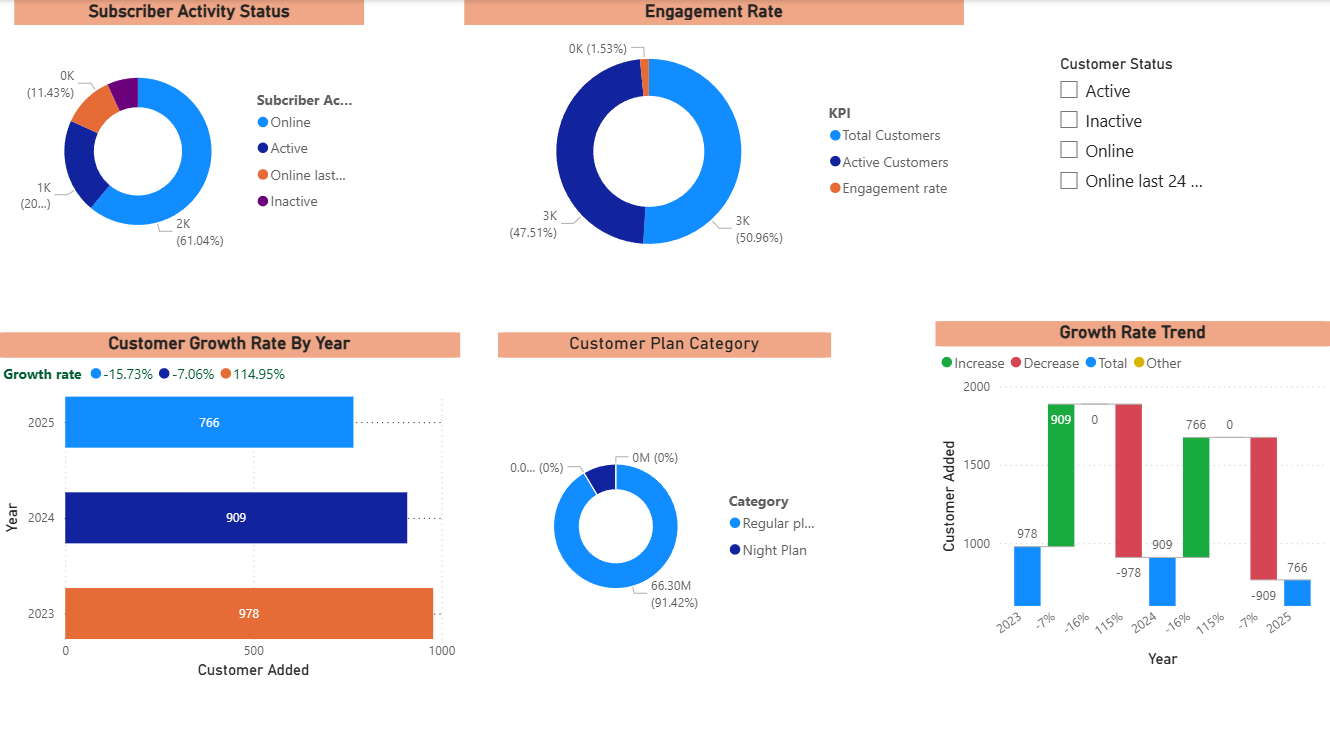

The dashboard page shown, as its layout file describes it:
{"tool":"powerbi","page":{"name":"Customer Analysis","canvas":[1280,720],"ordinal":1},"visuals":[{"type":"donutChart","title":"Subscriber Activity Status","fields":{"Category":["CUSTOMER STATUS ANLYSIS.Subcriber Activity Status"],"Y":["Sum(CUSTOMER STATUS ANLYSIS.No. of customers)"]},"box":[16,0,336,272],"z":0},{"type":"barChart","title":"Customer Growth Rate By Year","fields":{"Category":["Annual Growth Rate.Year"],"Y":["Sum(Annual Growth Rate.Customer Added )"],"Series":["Annual Growth Rate.Growth rate"]},"box":[0,319.8,444.2,337.2],"z":1000},{"type":"donutChart","title":"Engagement Rate","fields":{"Category":["Engagement rate.KPI"],"Series":["Engagement rate.VALUE"],"Y":["Sum(Engagement rate.VALUE)"]},"box":[448,0,480,272],"z":2000},{"type":"donutChart","title":"Customer Plan Category","fields":{"Category":["SUBCRIPTION CATE.Category "],"Y":["Sum(SUBCRIPTION CATE.Total number  of client)","Sum(SUBCRIPTION CATE.Revenue generated )","Sum(SUBCRIPTION CATE.% Contibution )"]},"box":[480.1,319.8,319.8,353.5],"z":3000},{"type":"waterfallChart","title":"Growth Rate Trend","fields":{"Category":["Annual Growth Rate.Year"],"Y":["Sum(Annual Growth Rate.Customer Added )"],"Breakdown":["Annual Growth Rate.Growth rate"]},"box":[900.9,308.1,379.1,337.2],"z":4000},{"type":"slicer","fields":{"Values":["CUSTOMER STATUS ANLYSIS.Subcriber Activity Status"]},"box":[1008,48,160,144],"z":5000}]}

Visuals, with their boxes in screenshot pixels (x1, y1, x2, y2), scaled from the page's 1280x720 canvas onto the 1330x740 screenshot:
"Subscriber Activity Status" donutChart: <box>17,0,366,280</box>
"Customer Growth Rate By Year" barChart: <box>0,329,462,675</box>
"Engagement Rate" donutChart: <box>466,0,964,280</box>
"Customer Plan Category" donutChart: <box>499,329,831,692</box>
"Growth Rate Trend" waterfallChart: <box>936,317,1329,663</box>
slicer - CUSTOMER STATUS ANLYSIS.Subcriber Activity Status: <box>1047,49,1214,197</box>
